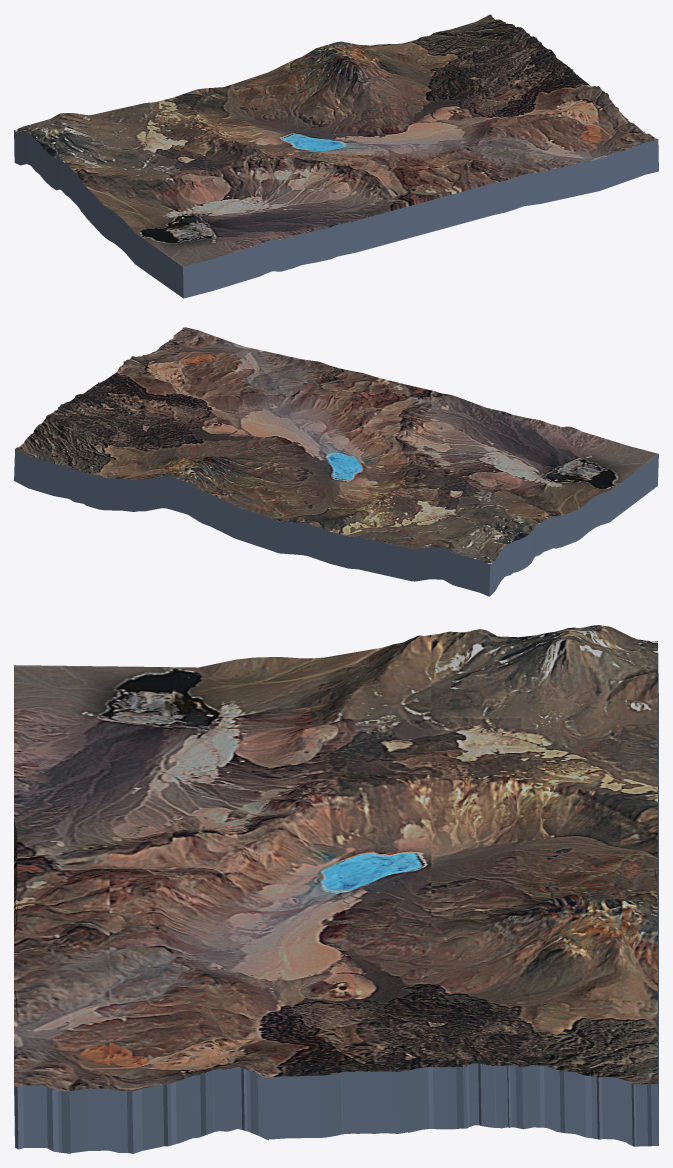
The model's file is cerro_el_condor.gltf.
3 views of the same model, one above another, from view 1: azimuth 30°, elevation 25°; view 2: azimuth 150°, elevation 25°; view 3: azimuth 270°, elevation 25° (orthographic). The views are drawn at different scales.
Parts seen in each view (by area): view 1: Cerro El Condor, skirt; view 2: Cerro El Condor, skirt; view 3: Cerro El Condor, skirt.
Part boxes in pixels (x1=…): Cerro El Condor: x1=14, y1=14, x2=657, y2=266; skirt: x1=14, y1=19, x2=658, y2=298; Cerro El Condor: x1=15, y1=327, x2=658, y2=564; skirt: x1=14, y1=340, x2=658, y2=596; Cerro El Condor: x1=14, y1=625, x2=657, y2=1091; skirt: x1=14, y1=653, x2=658, y2=1153.
Bounding box in the file's own units: 26.91 × 3.28 × 16.54.
Materials: 2 (1 with a texture image).
